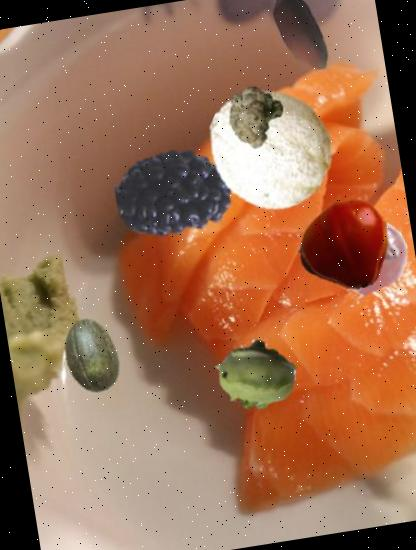Cantaloupe: (197, 77, 341, 221)
Cauliflower: (219, 81, 292, 153)
Hazelnut: (252, 0, 349, 83)
Kohlrabi: (208, 328, 302, 422)
Melon: (47, 313, 134, 400)
Mulberry: (107, 126, 241, 260)
Orange: (294, 220, 359, 285)
Redcurrant: (330, 214, 414, 298)
Tomato: (296, 194, 400, 298)
